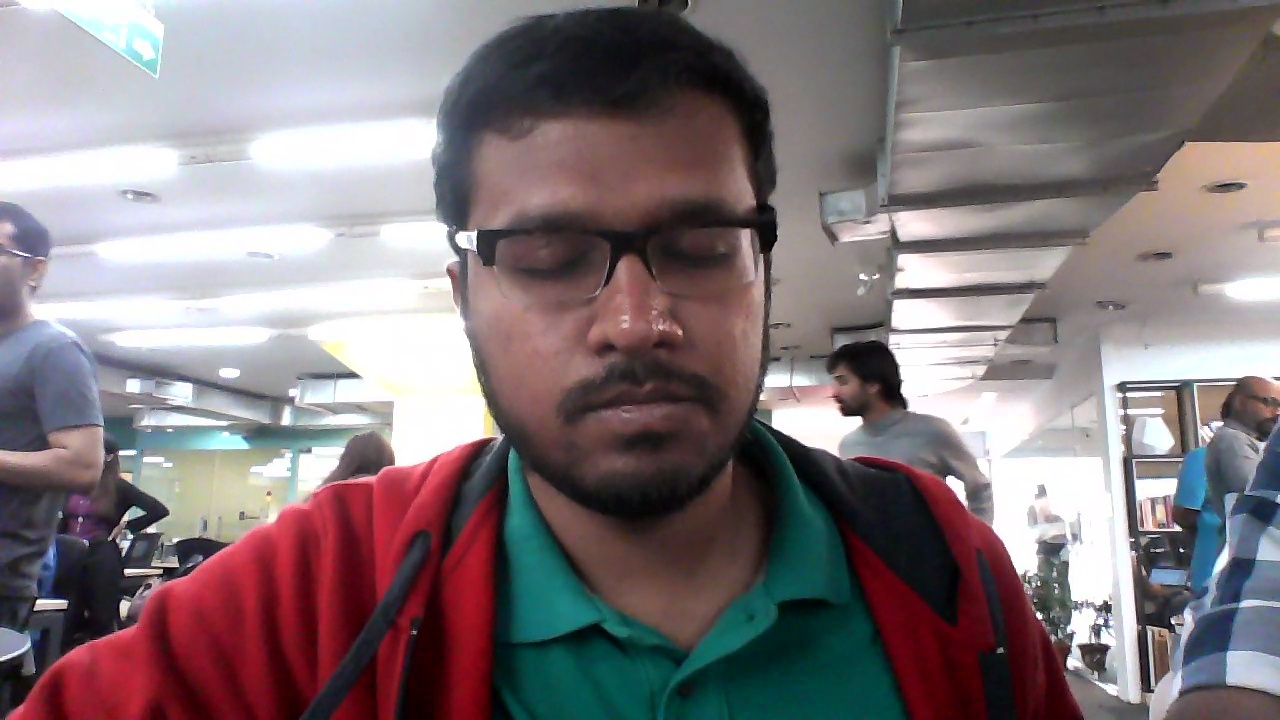closed: (434, 14, 786, 523)
